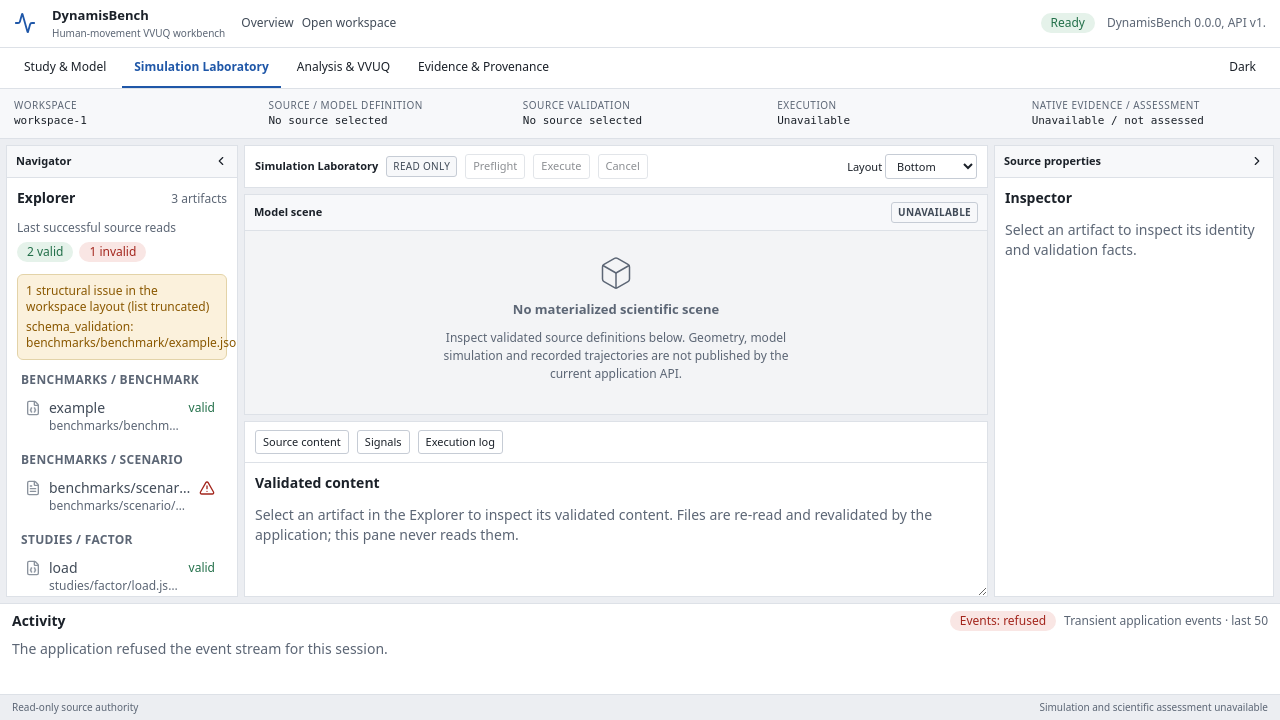
Scenario: the workspace workbench › renders diagnostics and no validated content for invalid authority
expect the heading "Explorer" is shown: met, box 17,188 -> 75,208
Click the option "broken".
click(120, 496)  # box 17,472 -> 223,520
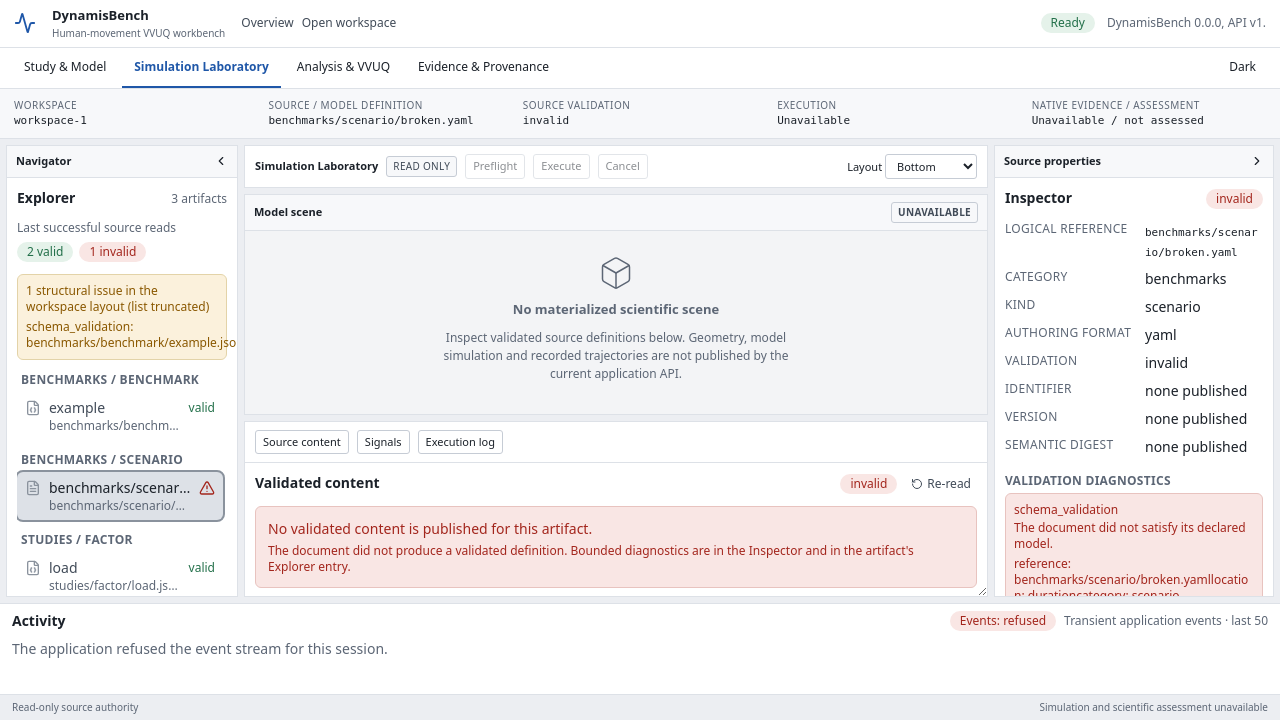
expect the text "No validated content is published for this artifact." is shown: met, box 268,519 -> 592,538
expect the text "The document did not satisfy its declared model." is shown: met, box 1014,520 -> 1254,552
expect the text "schema_validation" below "Validation diagnostics" is shown: met, box 1014,500 -> 1118,518
